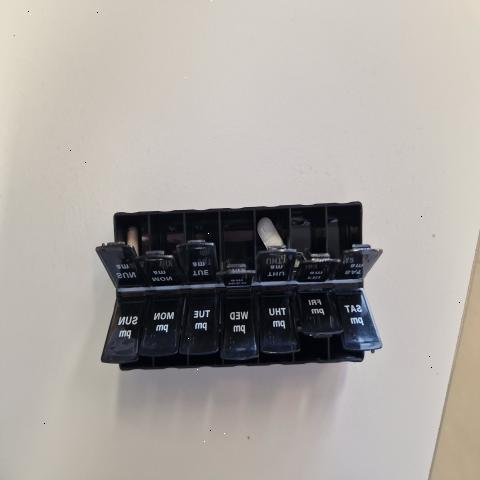Open: (256, 204, 296, 285), (325, 204, 381, 256), (290, 206, 341, 263), (148, 210, 185, 284), (222, 206, 255, 285), (257, 296, 293, 367), (296, 292, 330, 361), (220, 302, 256, 365), (182, 210, 218, 271), (140, 335, 182, 370), (112, 211, 142, 255), (180, 335, 219, 367), (328, 335, 367, 362), (119, 360, 143, 371)
